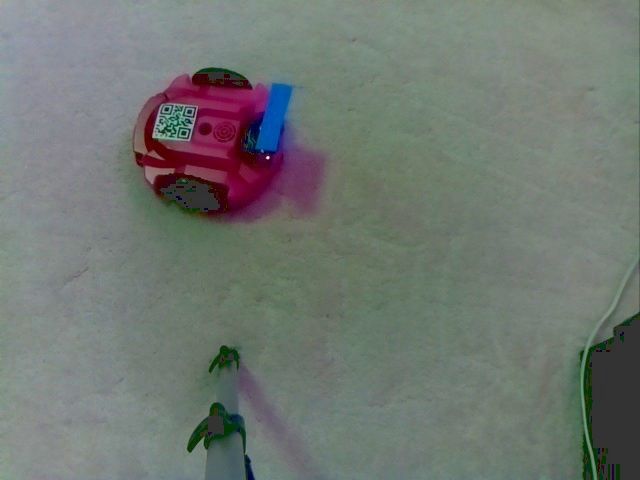board: (236, 82, 296, 171)
chassis: (129, 65, 298, 218)
